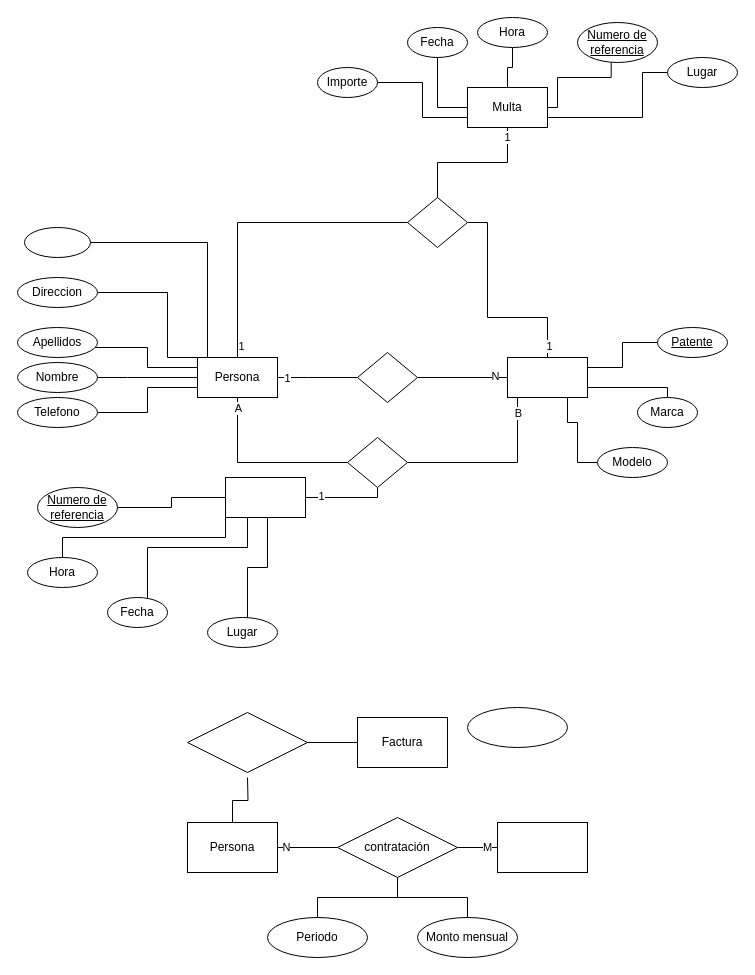
Image size: 755x975. Some labels were removed from this diagram. The shapes that lost their labels are listed below. From the top down, each one's centre as x and y in pixels, then its label:
At [57,242]: "DNI".
At [437,222]: "tiene".
At [387,377]: "dueño".
At [547,377]: "Vehiculo".
At [377,462]: "ocurrio".
At [265,497]: "Accidente".
At [247,742]: "de".
At [517,727]: "pagos".
At [542,847]: "Empresa".
